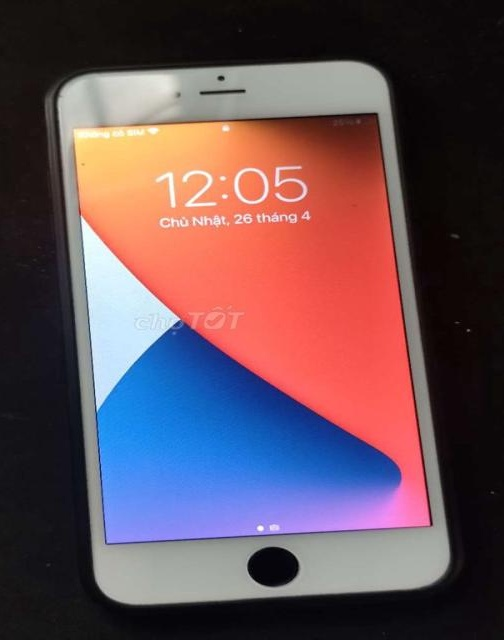scratch: (40, 55, 490, 615)
screen_defect: (228, 530, 312, 594)
